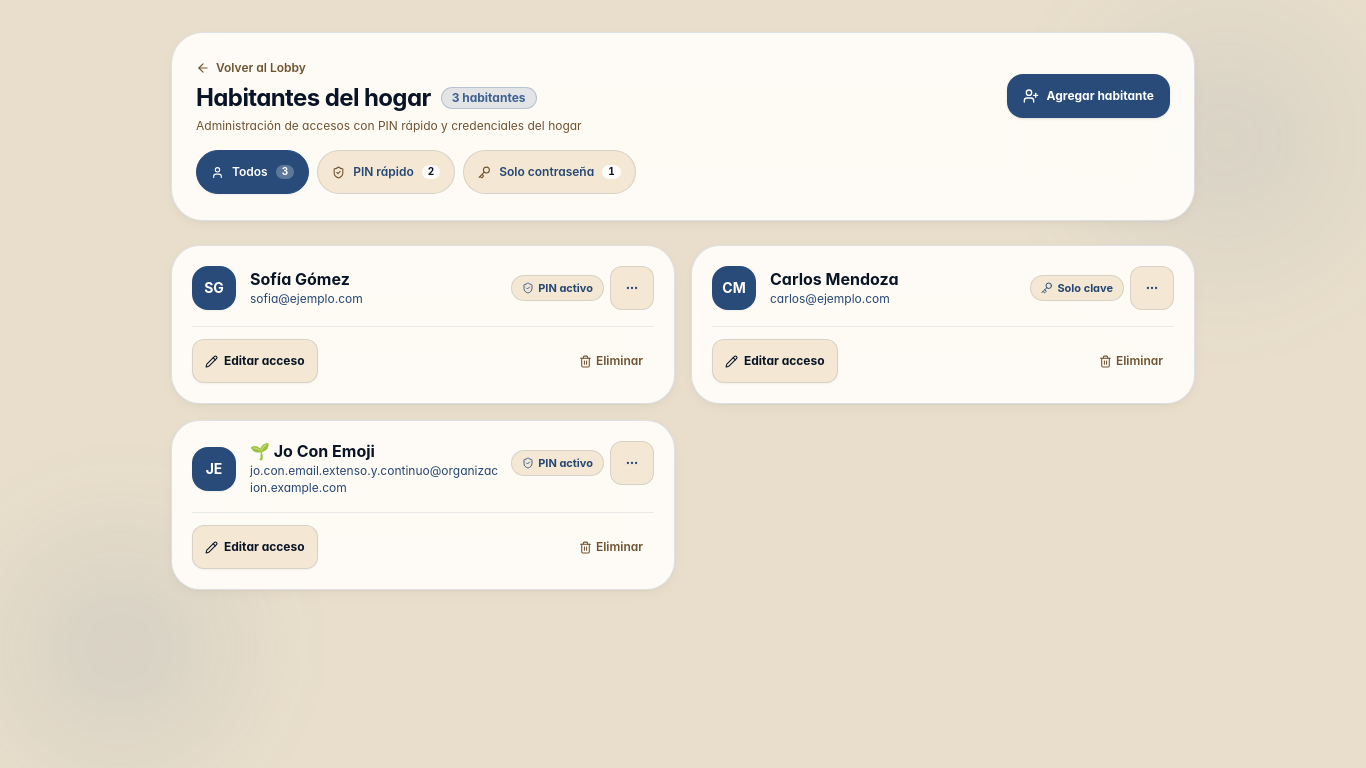
Test: UsuariosView - Apple Design & Break-UI Craft › filters by access method (Todos, PIN rápido, Solo clave)
The image size is (1366, 768).
Note: Filter "PIN rápido"
Step 1. Click the button "PIN rápido 2" → (386, 172), box [317, 150, 455, 194]
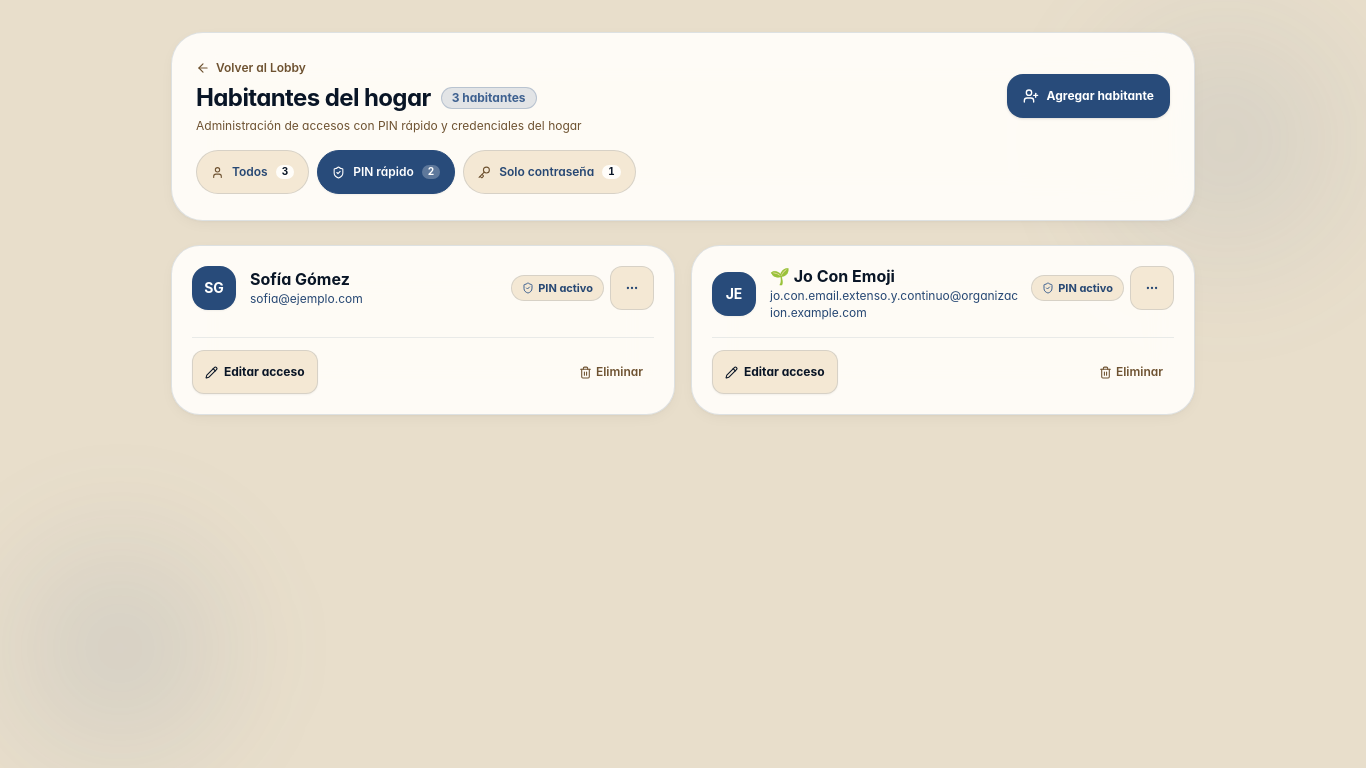
Expected: the heading "Sofía Gómez" is shown, [250, 269, 350, 289]
Expected: the heading "Carlos Mendoza" is gone
Note: Filter "Solo contraseña"
Step 2. Click the button "Solo contraseña 1" → (549, 172), box [463, 150, 636, 194]
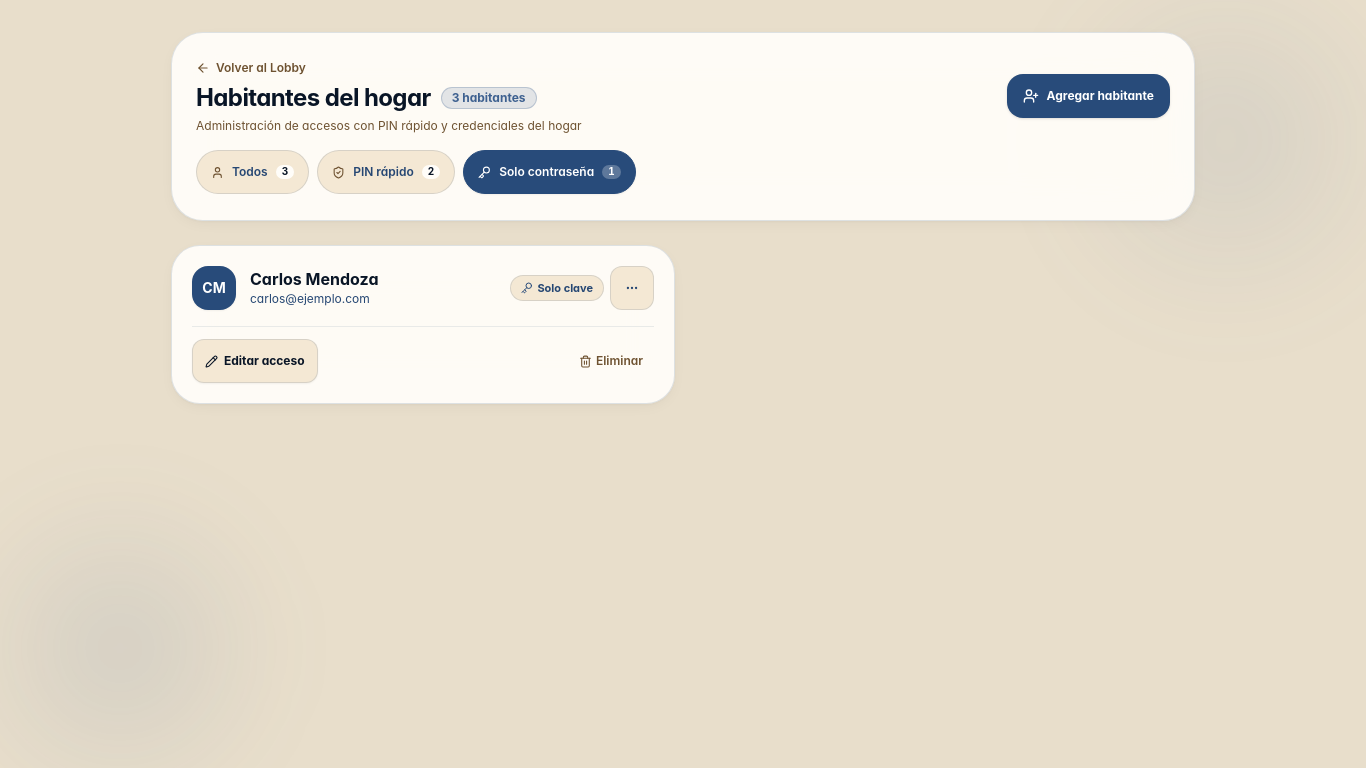
Expected: the heading "Sofía Gómez" is gone
Expected: the heading "Carlos Mendoza" is shown, [250, 269, 378, 289]
Step 3. Click the button "Todos 3" → (253, 172), box [196, 150, 309, 194]
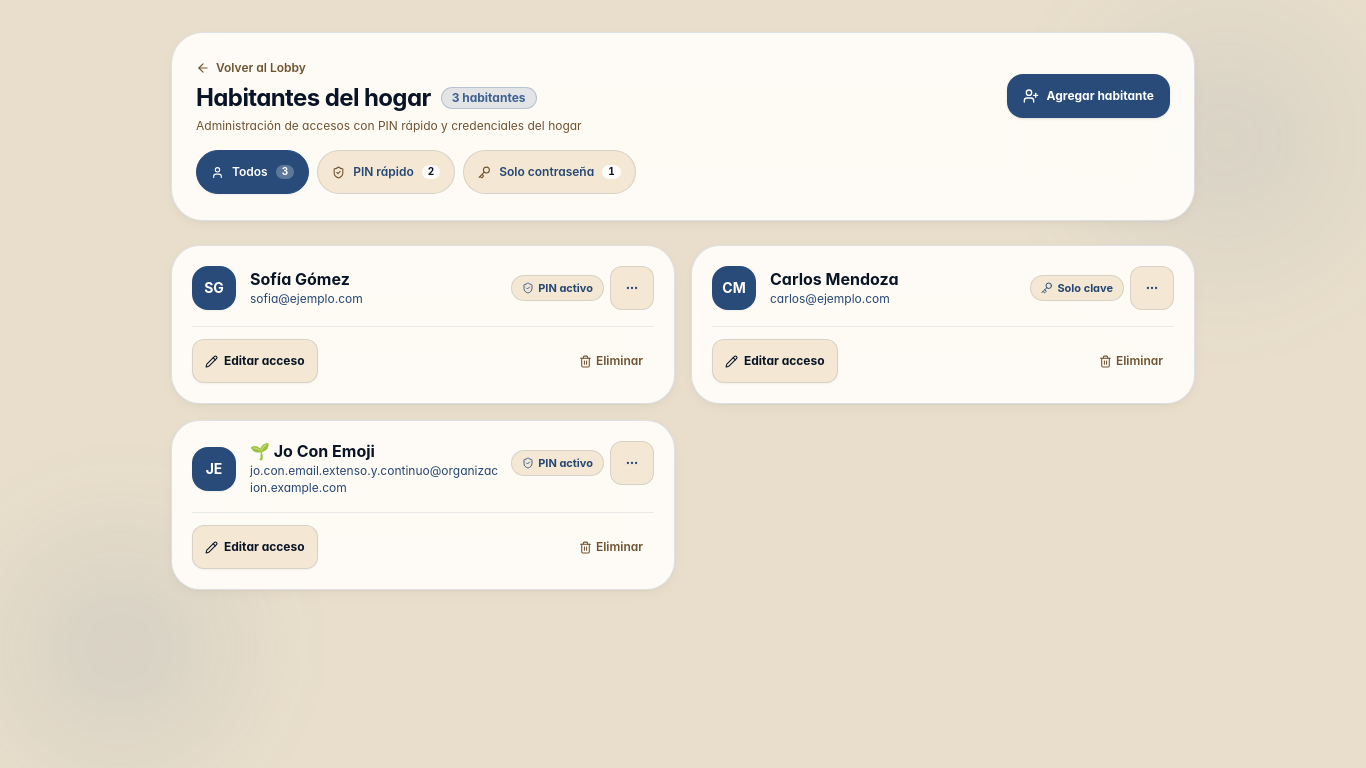
Expected: the heading "Carlos Mendoza" is shown, [770, 269, 898, 289]
Expected: the heading "Sofía Gómez" is shown, [250, 269, 350, 289]
